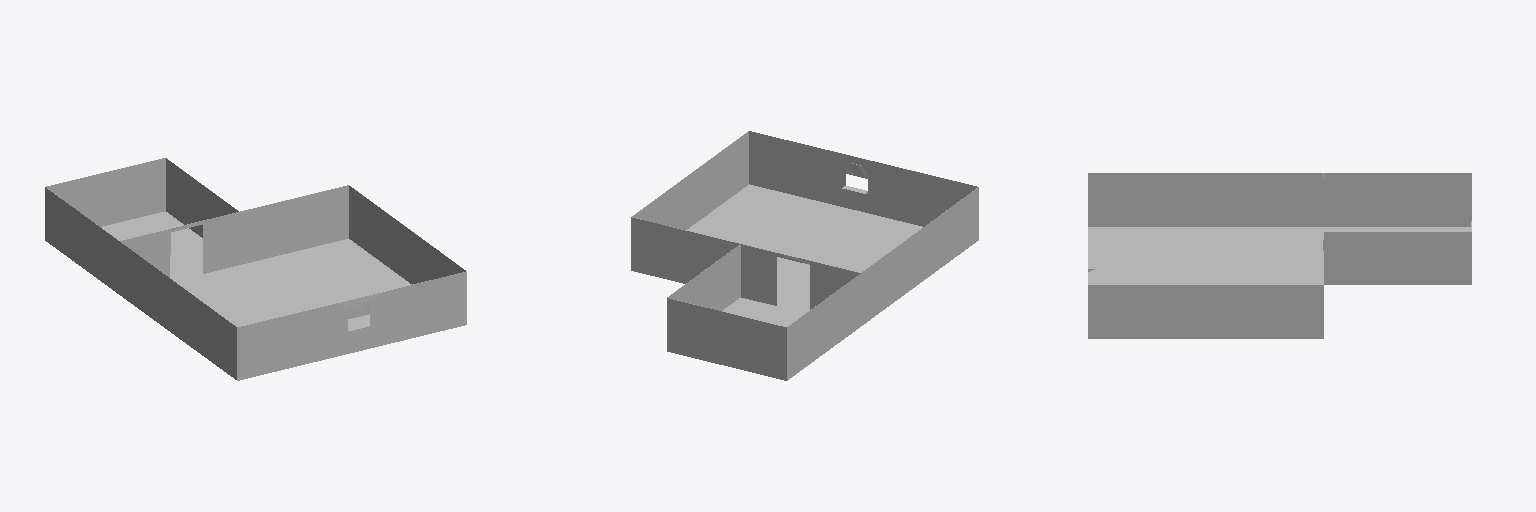
File: apartment.obj
3 renders of one model, left to right at view 1: azimuth 30°, elevation 25°; view 2: azimuth 150°, elevation 25°; view 3: azimuth 270°, elevation 25°, orthographic.
Parts seen in each view (by area): view 1: Cube; view 2: Cube; view 3: Cube.
Part boxes in pixels (x1,y1,x2,y2): Cube: (45,158,466,380); Cube: (631,131,978,380); Cube: (1088,173,1471,338).
Size of the model in its own units: 9.01 by 2.01 by 13.05.